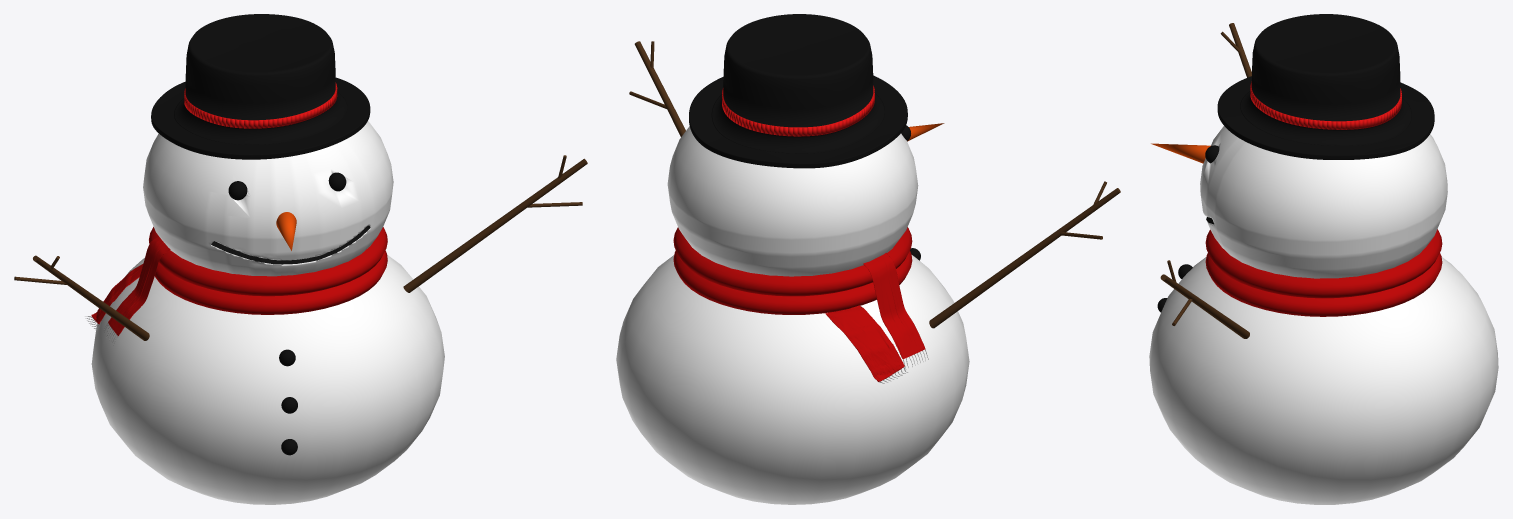
Rendered from snowman.glb.
The picture shows the model from 3 angles, left to right: view 1: azimuth 30°, elevation 25°; view 2: azimuth 150°, elevation 25°; view 3: azimuth 270°, elevation 25°; orthographic projection.
Parts seen in each view (by area): view 1: Body, Hat, Scarf, Left Hand, Right Hand, Button; view 2: Body, Hat, Scarf, Right Hand, Left Hand; view 3: Body, Hat, Left Hand, Nose, Right Hand.
Part boxes in pixels (<box>): Body: <box>91,121,444,504</box>; Hat: <box>151,14,370,159</box>; Scarf: <box>85,236,170,345</box>; Left Hand: <box>403,155,587,292</box>; Right Hand: <box>14,255,149,340</box>; Button: <box>279,349,297,455</box>; Body: <box>616,126,969,504</box>; Hat: <box>689,14,907,168</box>; Scarf: <box>825,253,928,383</box>; Right Hand: <box>929,181,1120,328</box>; Left Hand: <box>629,41,685,136</box>; Body: <box>1149,126,1498,504</box>; Hat: <box>1217,14,1434,159</box>; Left Hand: <box>1160,260,1249,338</box>; Nose: <box>1151,143,1210,163</box>; Right Hand: <box>1220,23,1251,77</box>.
Size of the model in its own units: 5.47 by 4.45 by 3.21.
